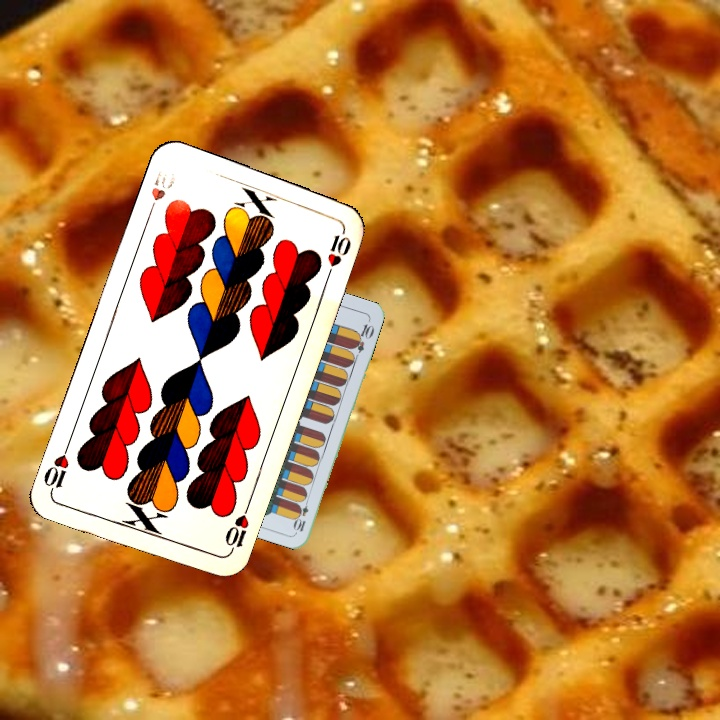E10: (291, 494, 311, 534)
H10: (143, 166, 179, 220), (221, 500, 253, 557)
